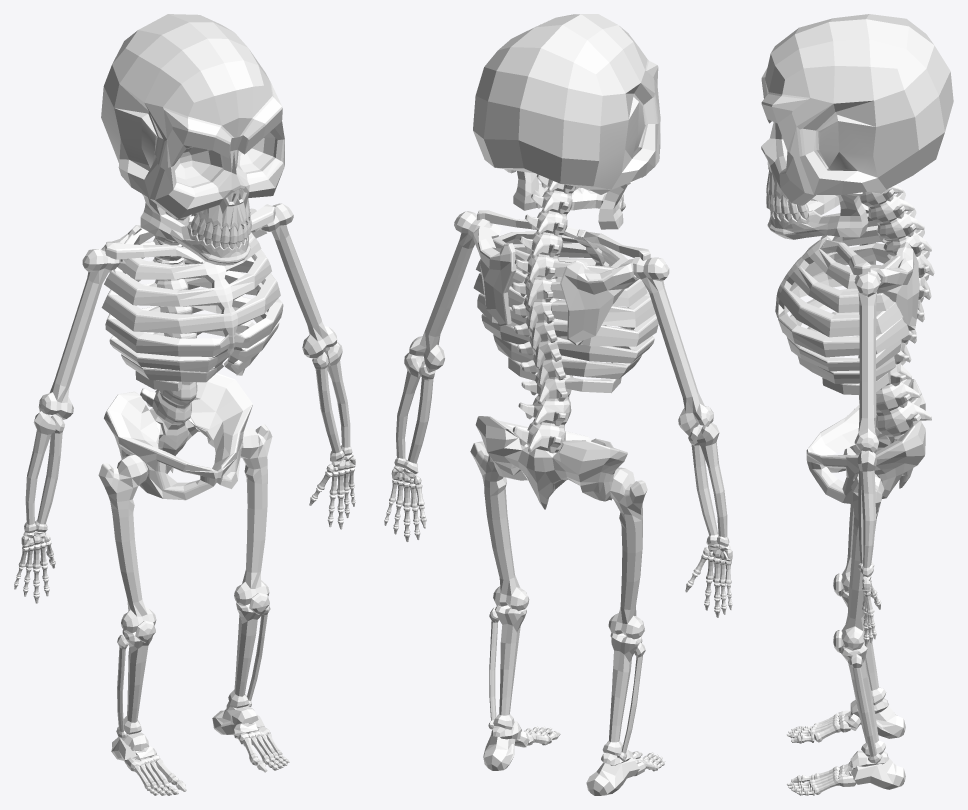
Rendered from bone_human.fbx.
3 renders of one model, left to right at view 1: azimuth 30°, elevation 25°; view 2: azimuth 150°, elevation 25°; view 3: azimuth 270°, elevation 25°, orthographic. The views are drawn at different scales.
Visible parts, largest first — view 1: bone15, bone2, bone8, bone3, bone1, bone4, bone9, bone7, bone11, bone14, bone12, bone13 (+2 smaller); view 2: bone15, bone2, bone8, bone1, bone3, bone4, bone9, bone12, bone14, bone7, bone13, bone11 (+2 smaller); view 3: bone2, bone15, bone4, bone11, bone3, bone13, bone12, bone7, bone, bone14, bone8.
Boxes of the visible parts, x1,y1,x2,y2 form: bone15: (101,204,283,500); bone2: (101,14,284,265); bone8: (98,455,156,633); bone3: (234,424,272,605); bone1: (38,249,120,419); bone4: (260,203,337,358); bone9: (24,411,64,533); bone7: (312,342,352,461); bone11: (212,701,289,772); bone14: (116,629,152,738); bone12: (228,602,270,708); bone13: (111,732,186,795); bone15: (473,174,658,509); bone2: (473,14,660,229); bone8: (608,467,647,639); bone1: (632,257,713,436); bone3: (470,441,529,610); bone4: (409,211,492,372); bone9: (688,423,729,546); bone12: (488,605,526,729); bone14: (602,633,645,761); bone7: (394,352,435,473); bone13: (586,749,665,795); bone11: (483,720,560,770); bone2: (761,14,953,239); bone15: (775,185,934,504); bone4: (854,268,880,453); bone11: (787,750,905,795); bone3: (841,474,884,650); bone13: (787,698,905,743); bone12: (840,642,886,763); bone7: (857,450,876,577); bone: (862,576,881,645); bone14: (840,589,886,705); bone8: (841,504,854,592).
Size of the model in its own units: 6.23 by 12.82 by 3.
